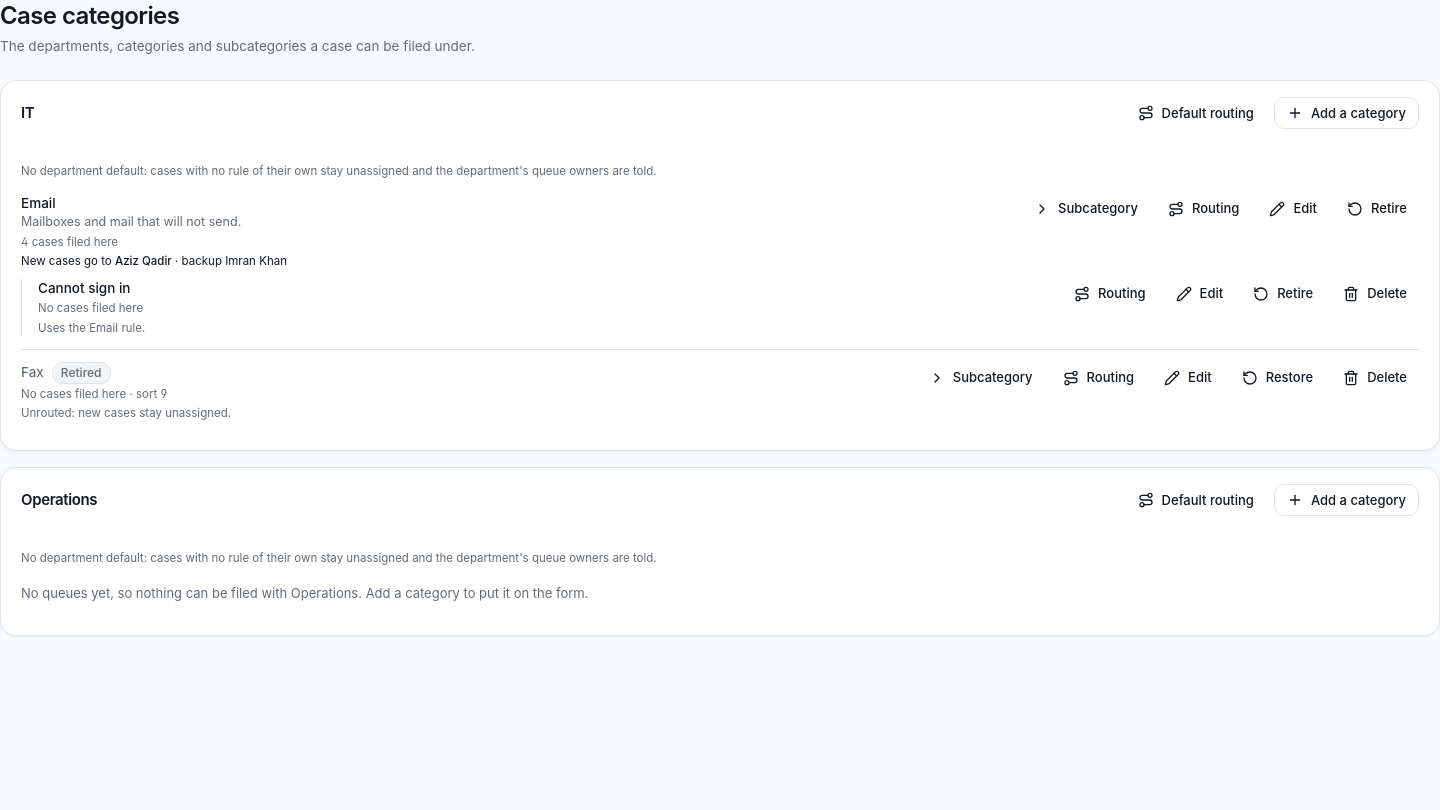
Test: the catalogue screen › asks before deleting, and says the subcategories go too
The image size is (1440, 810).
Later steps or results of the test are not shown.
Expected: the text "Fax" is shown, [21, 364, 44, 380]
Click the button "Delete" in the row of "· sort 9" at (1375,378), box [1331, 362, 1419, 394]
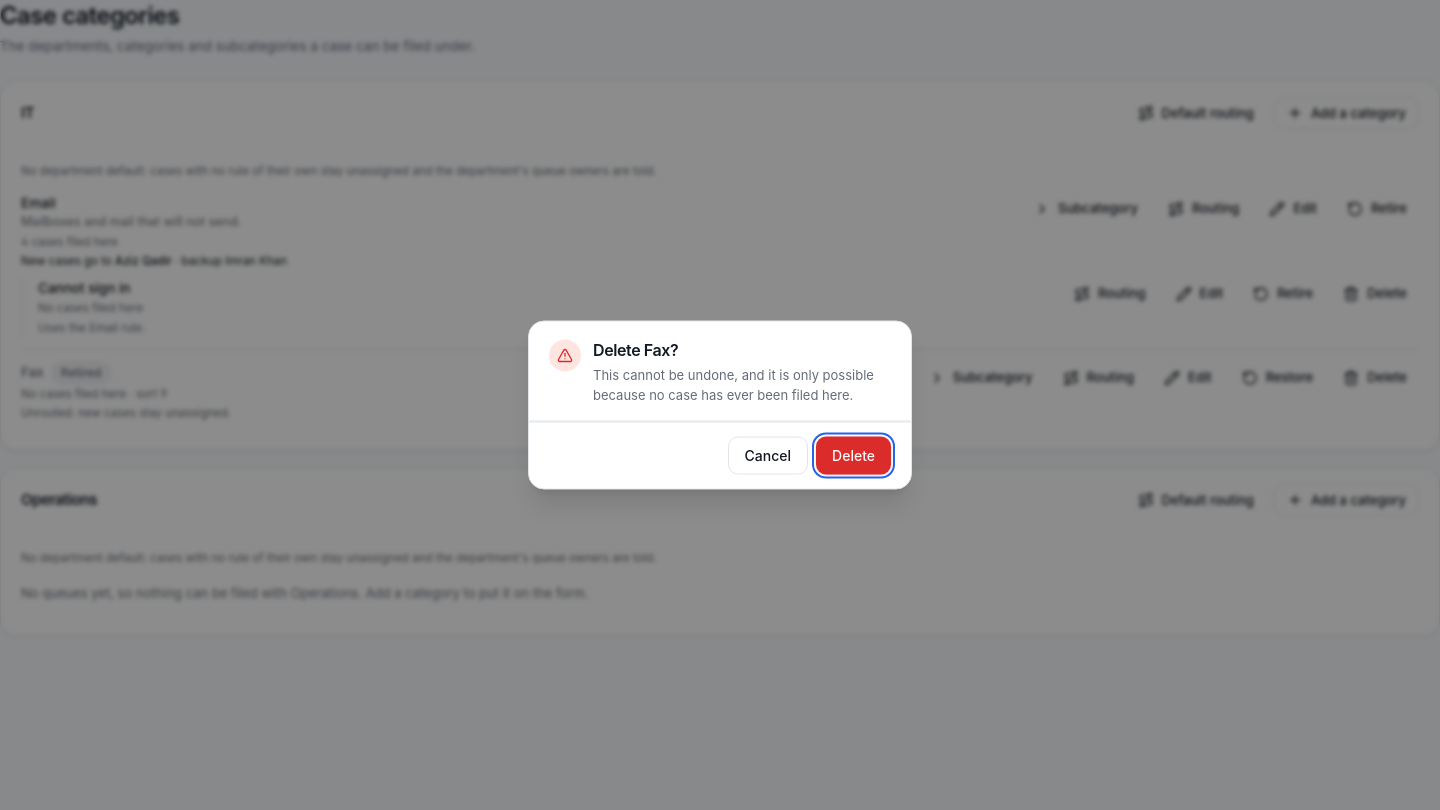
Expected: the heading "Delete Fax?" is shown, [593, 340, 678, 360]
